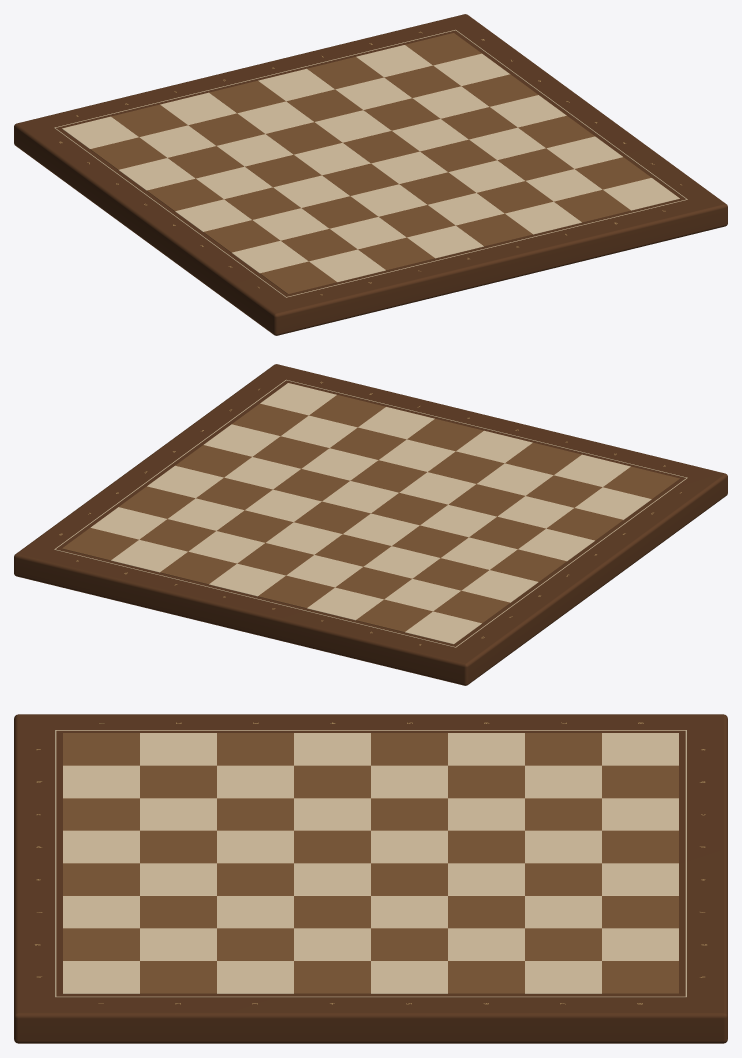
File: board.glb
3 renders of one model, top to bottom at view 1: azimuth 30°, elevation 25°; view 2: azimuth 150°, elevation 25°; view 3: azimuth 270°, elevation 25°, orthographic. The views are drawn at different scales.
Parts seen in each view (by area): view 1: Solid walnut board.001, a1 | walnut.001, b1 | maple.001, g1 | walnut.001, h1 | maple.001, c1 | walnut.001, d1 | maple.001, e1 | walnut.001, f1 | maple.001, a3 | walnut.001, a5 | walnut.001, a4 | maple.001 (+53 smaller); view 2: Solid walnut board.001, a8 | maple.001, b8 | walnut.001, g8 | maple.001, h8 | walnut.001, c8 | maple.001, d8 | walnut.001, e8 | maple.001, f8 | walnut.001, a4 | maple.001, a6 | maple.001, a5 | walnut.001 (+53 smaller); view 3: Solid walnut board.001, b1 | maple.001, b2 | walnut.001, b3 | maple.001, b4 | walnut.001, b5 | maple.001, b6 | walnut.001, b7 | maple.001, b8 | walnut.001, d1 | maple.001, d2 | walnut.001, d3 | maple.001 (+57 smaller).
Boxes of the visible parts, x1,y1,x2,y2 form: Solid walnut board.001: (14,14,727,335); a1 | walnut.001: (260,261,336,294); b1 | maple.001: (309,249,385,282); g1 | walnut.001: (554,189,630,222); h1 | maple.001: (603,178,679,210); c1 | walnut.001: (358,237,434,270); d1 | maple.001: (407,225,483,258); e1 | walnut.001: (456,213,532,246); f1 | maple.001: (505,201,581,234); a3 | walnut.001: (203,220,280,252); a5 | walnut.001: (147,178,223,211); a4 | maple.001: (175,199,251,231); Solid walnut board.001: (14,364,727,685); a8 | maple.001: (405,611,481,644); b8 | walnut.001: (356,599,432,632); g8 | maple.001: (111,539,187,572); h8 | walnut.001: (62,528,138,560); c8 | maple.001: (307,587,383,620); d8 | walnut.001: (258,575,334,608); e8 | maple.001: (209,563,285,596); f8 | walnut.001: (160,551,236,584); a4 | maple.001: (518,528,594,561); a6 | maple.001: (461,570,538,602); a5 | walnut.001: (490,549,566,581); Solid walnut board.001: (14,714,727,1043); b1 | maple.001: (63,765,139,798); b2 | walnut.001: (140,765,216,798); b3 | maple.001: (217,765,293,798); b4 | walnut.001: (294,765,370,798); b5 | maple.001: (371,765,447,798); b6 | walnut.001: (448,765,524,798); b7 | maple.001: (525,765,601,798); b8 | walnut.001: (602,765,678,798); d1 | maple.001: (63,830,139,863); d2 | walnut.001: (140,830,216,863); d3 | maple.001: (217,830,293,863).
Bounding box in the file's own units: 0.51 × 0.0255 × 0.51.
